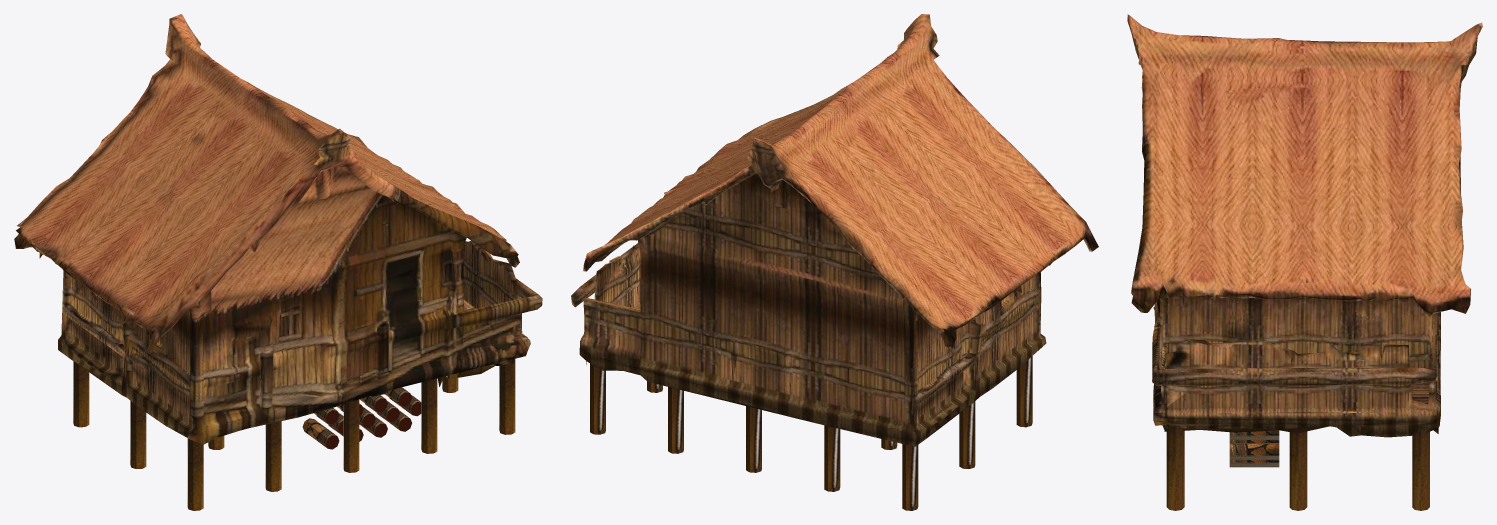
Rendered from toad-prop3d-barn.glb.
The picture shows the model from 3 angles, left to right: view 1: azimuth 30°, elevation 25°; view 2: azimuth 150°, elevation 25°; view 3: azimuth 270°, elevation 25°; orthographic projection. The views are drawn at different scales.
Parts seen in each view (by area): view 1: world; view 2: world; view 3: world.
Part boxes in pixels (box(x1,y1,x2,y2)): world: box(14, 14, 542, 510); world: box(571, 14, 1098, 510); world: box(1127, 14, 1482, 510).
Size of the model in its own units: 0.4137 by 0.364 by 0.3.
1 material, 1 textured.
